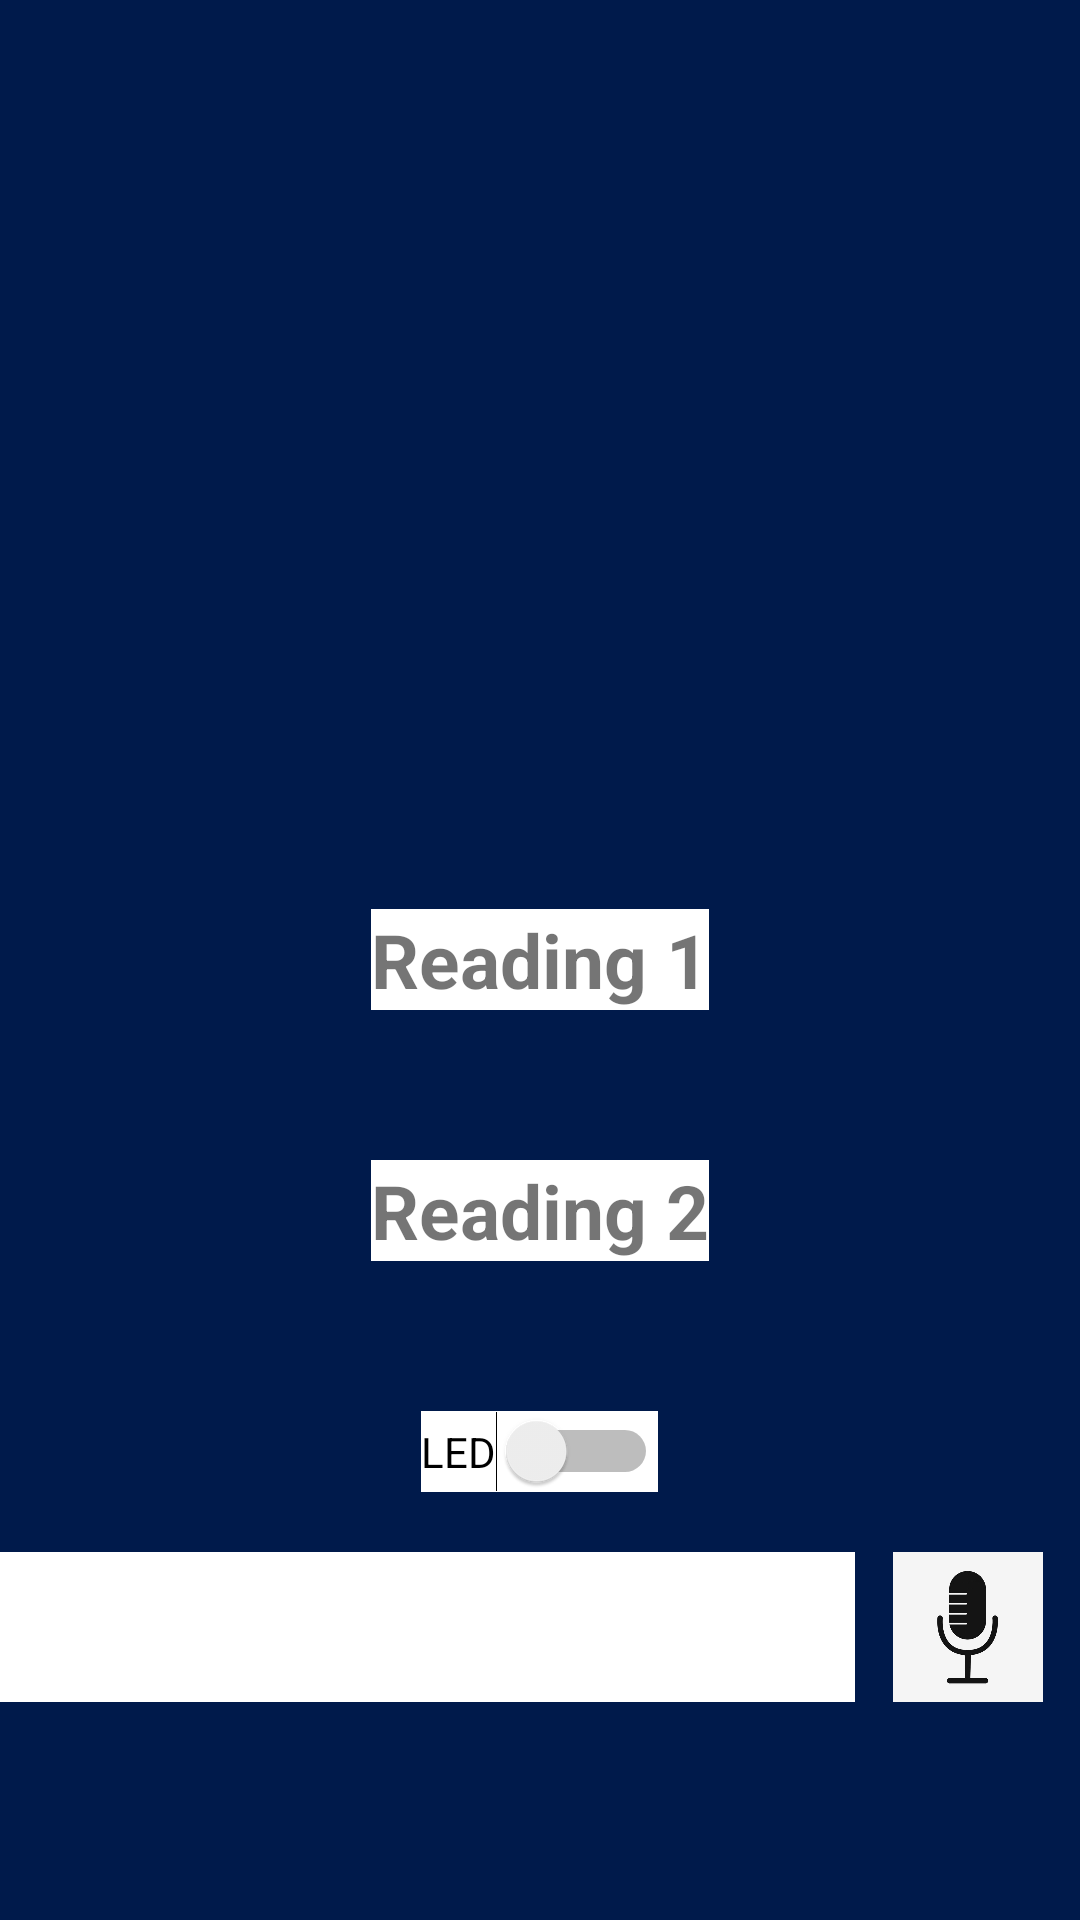

Named icons in this screenshot (1080x1920) and their bounding boxes, detection(x1, y1, x2, y2):
mic: detection(893, 1552, 1043, 1702)
